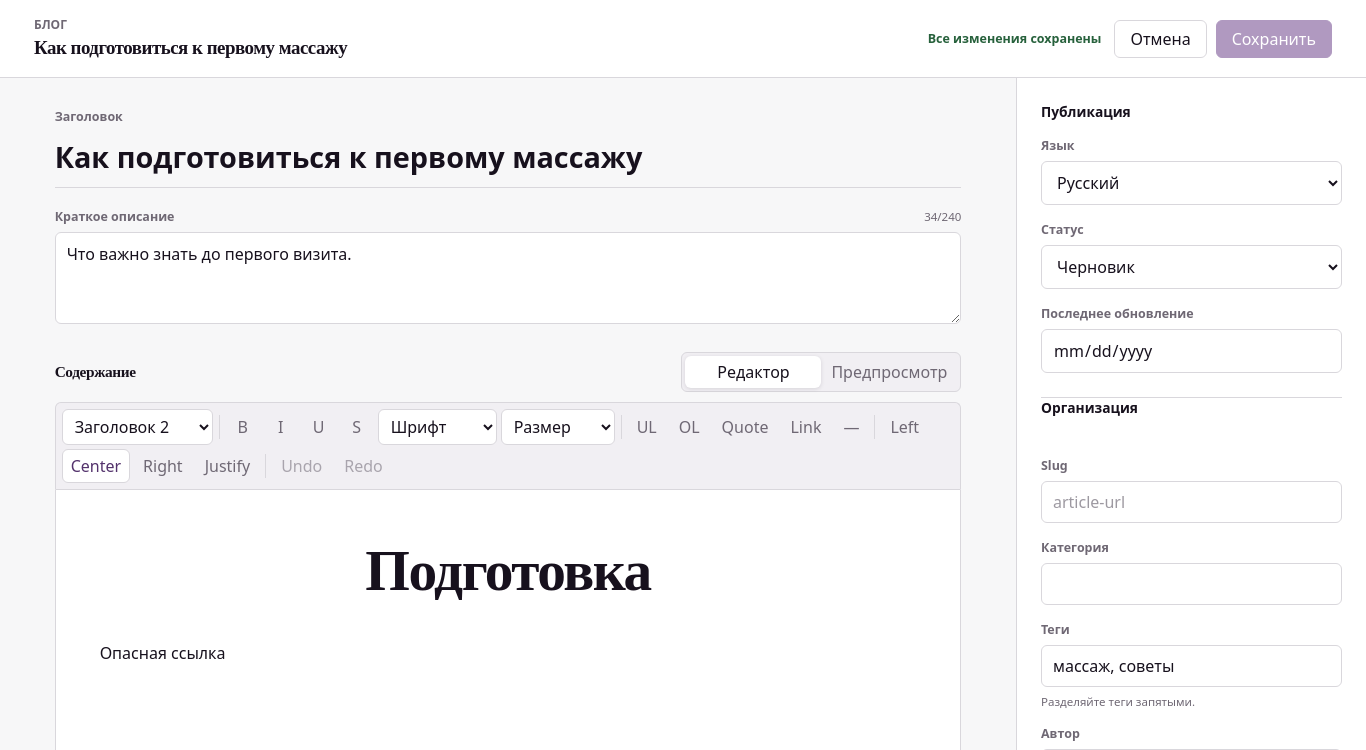
it: BlogArticleEditor › validates required metadata and moves focus to the first invalid field
Type " обновлено" into the field labelled "Заголовок".
click(508, 160); type(" обновлено")  # box [55, 132, 961, 188]
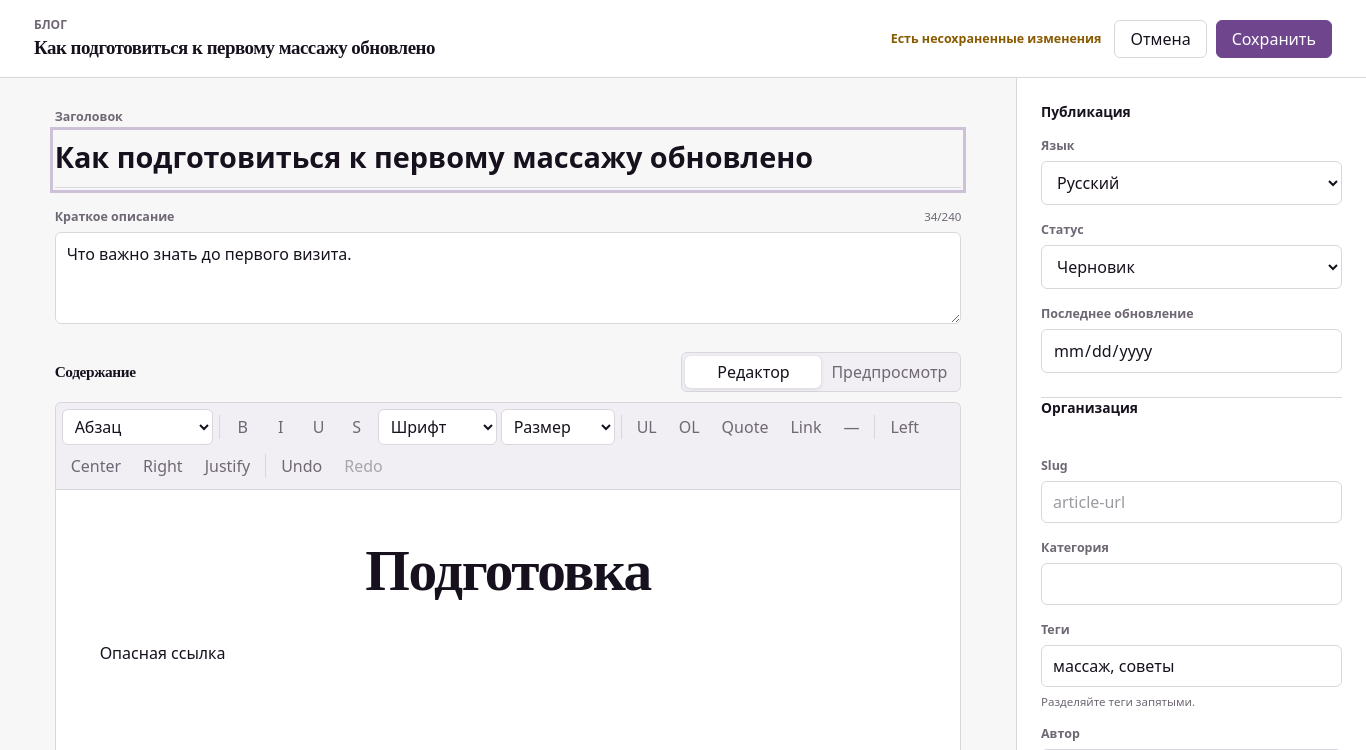
Click the button "Сохранить".
click(1274, 38)  # box [1216, 20, 1332, 58]
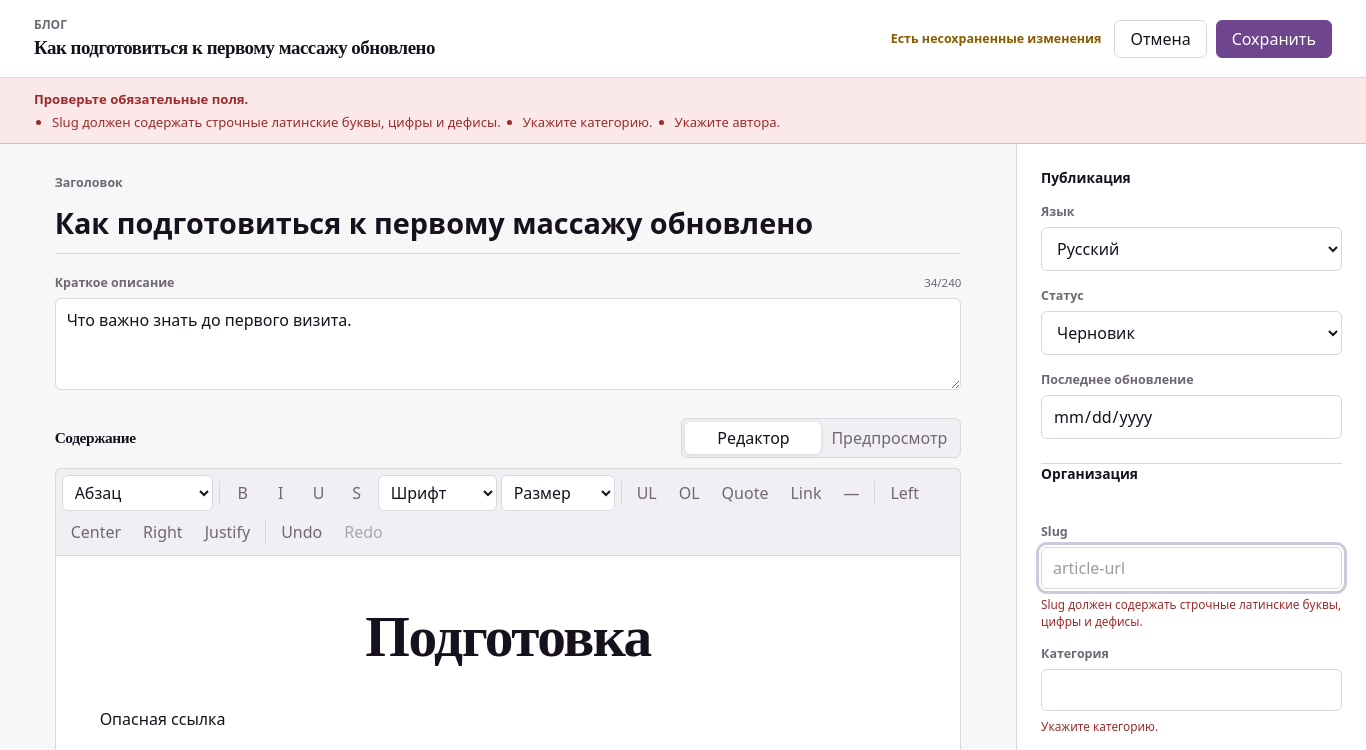
Now the message that starts with "Проверьте обязательные поля." is shown, box [34, 90, 248, 108]
Now the message that starts with "Проверьте обязательные поля." shows "Slug должен содержать", box [52, 113, 501, 131]
